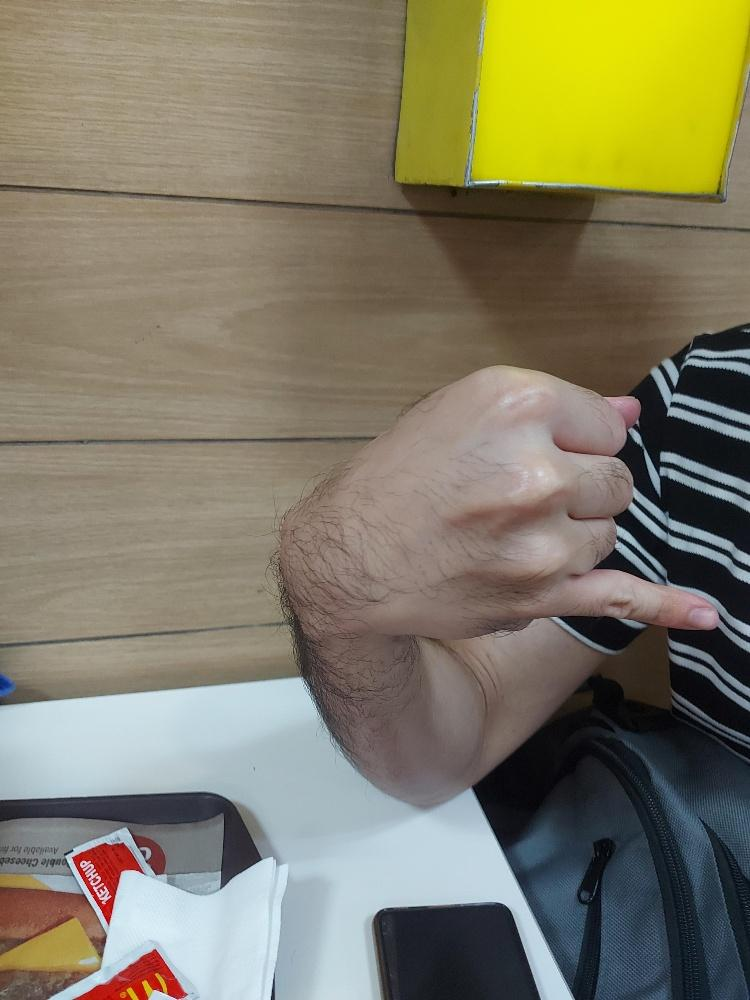j: (280, 356, 721, 637)
